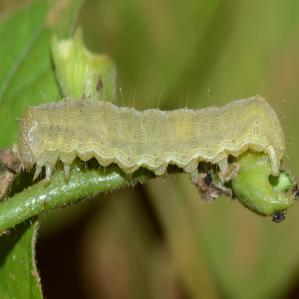Cotton bollworm: (13, 47, 294, 215)
